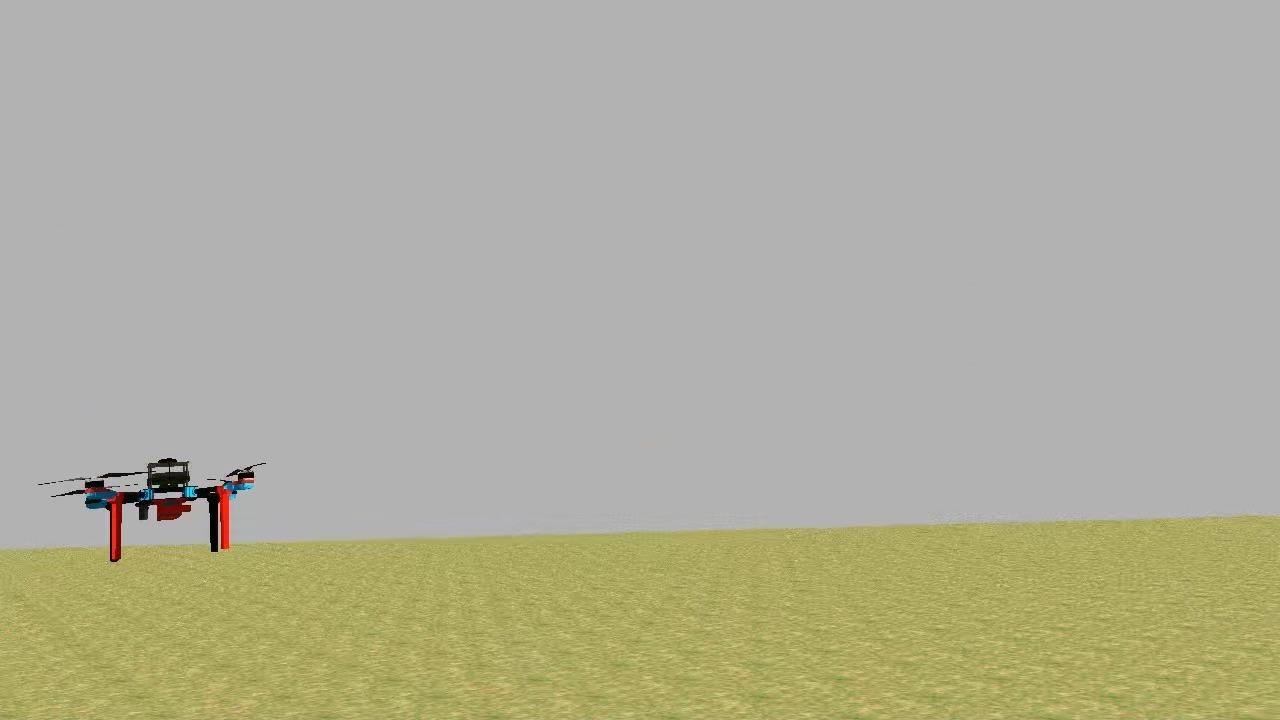UAV: (74, 450, 264, 570)
